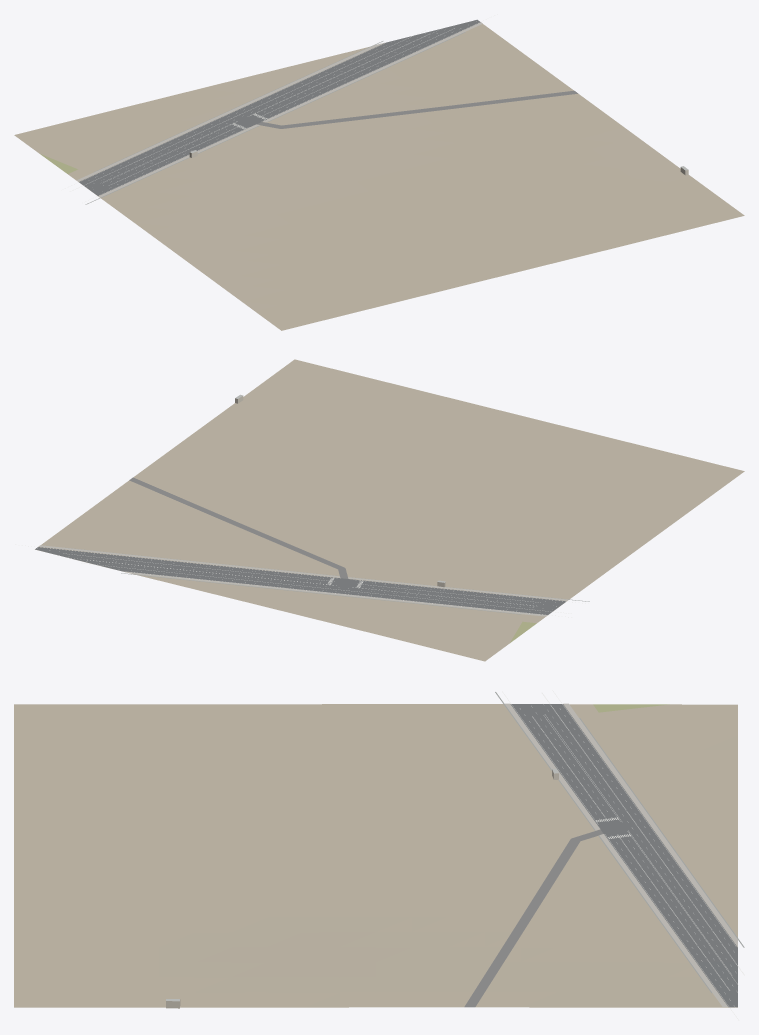
The model's file is bolak_-4_-15.glb.
3 renders of one model, top to bottom at view 1: azimuth 30°, elevation 25°; view 2: azimuth 150°, elevation 25°; view 3: azimuth 270°, elevation 25°, orthographic. The views are drawn at different scales.
Parts seen in each view (by area): view 1: Yer_Tuproq-col, Yol_Asfalt-col, Trotuar, Yol_Mahalla-col, Yol_Chiziq, Ariq; view 2: Yer_Tuproq-col, Yol_Asfalt-col, Trotuar, Yol_Mahalla-col, Yol_Chiziq, Ariq; view 3: Yer_Tuproq-col, Yol_Asfalt-col, Trotuar, Yol_Mahalla-col, Yol_Chiziq, Ariq.
Boxes of the visible parts, x1,y1,x2,y2 form: Yer_Tuproq-col: [14, 24, 744, 330]; Yol_Asfalt-col: [79, 19, 480, 195]; Trotuar: [77, 22, 482, 197]; Yol_Mahalla-col: [257, 90, 577, 128]; Yol_Chiziq: [65, 14, 497, 201]; Ariq: [85, 32, 465, 204]; Yer_Tuproq-col: [37, 359, 744, 661]; Yol_Asfalt-col: [35, 547, 565, 614]; Trotuar: [38, 545, 568, 616]; Yol_Mahalla-col: [129, 477, 348, 578]; Yol_Chiziq: [15, 544, 585, 617]; Ariq: [65, 547, 589, 614]; Yer_Tuproq-col: [14, 704, 737, 1007]; Yol_Asfalt-col: [510, 704, 737, 1007]; Trotuar: [505, 703, 737, 1006]; Yol_Mahalla-col: [464, 829, 603, 1007]; Yol_Chiziq: [502, 690, 744, 1020]; Ariq: [495, 692, 744, 993].
Size of what is drawn, in the model's own units: 436 by 5.71 by 404.
